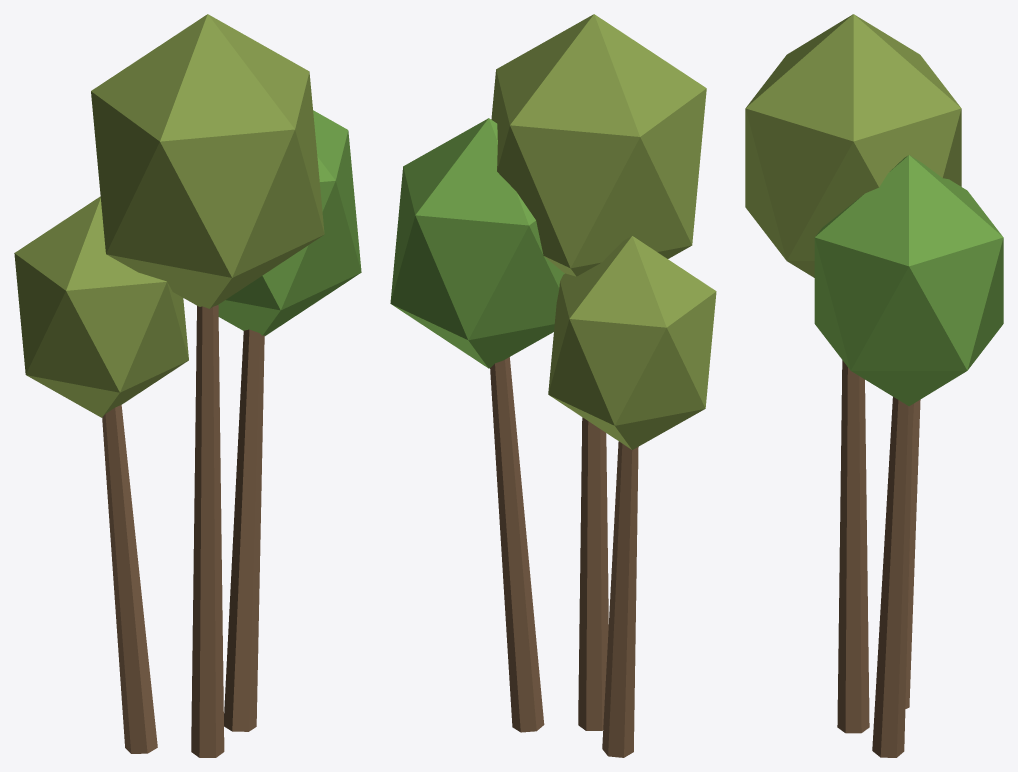
Rendered from VG_Tree_Birch.fbx.
3 views of the same model, side by side, from view 1: azimuth 30°, elevation 25°; view 2: azimuth 150°, elevation 25°; view 3: azimuth 270°, elevation 25° (orthographic). The views are drawn at different scales.
Parts seen in each view (by area): view 1: VG_Tree_Birch_Mesh; view 2: VG_Tree_Birch_Mesh; view 3: VG_Tree_Birch_Mesh.
Part boxes in pixels (x1,y1,x2,y2): VG_Tree_Birch_Mesh: (14, 14, 361, 757); VG_Tree_Birch_Mesh: (390, 14, 716, 757); VG_Tree_Birch_Mesh: (745, 14, 1003, 757).
Bounding box in the file's own units: 2.66 × 5.9 × 1.93.
